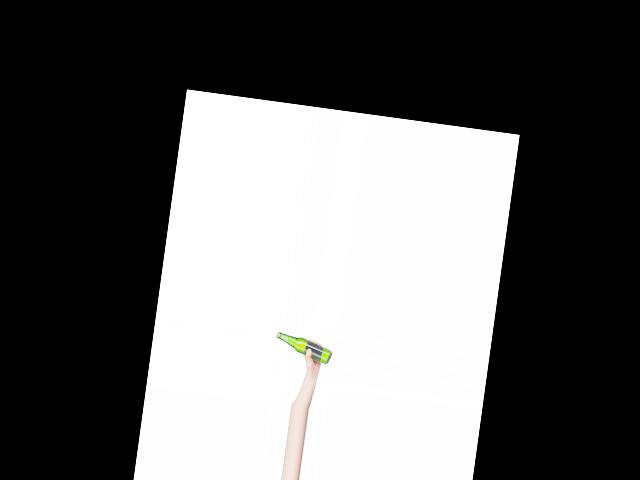beer: (273, 331, 334, 365)
